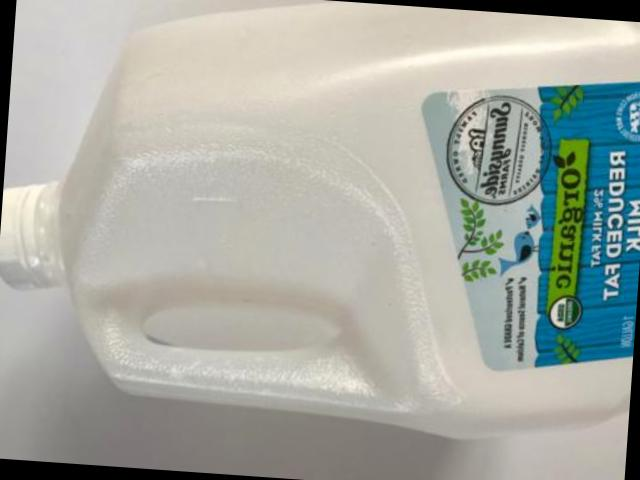plastic: (0, 1, 640, 435)
